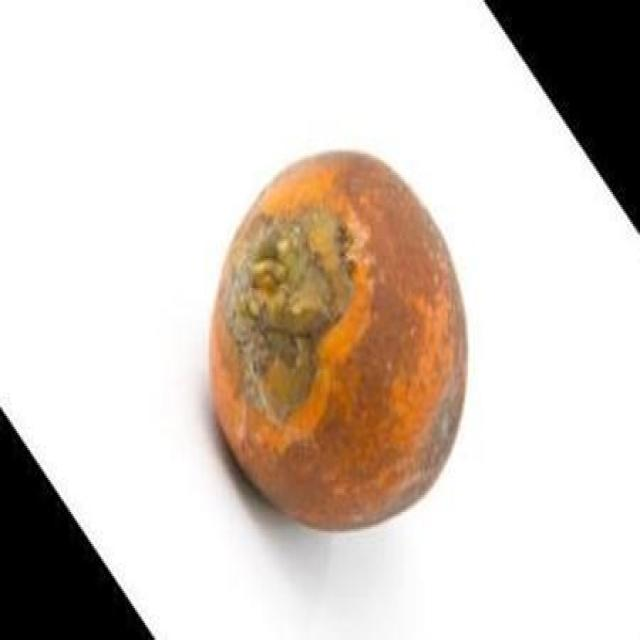good: (209, 151, 468, 535)
